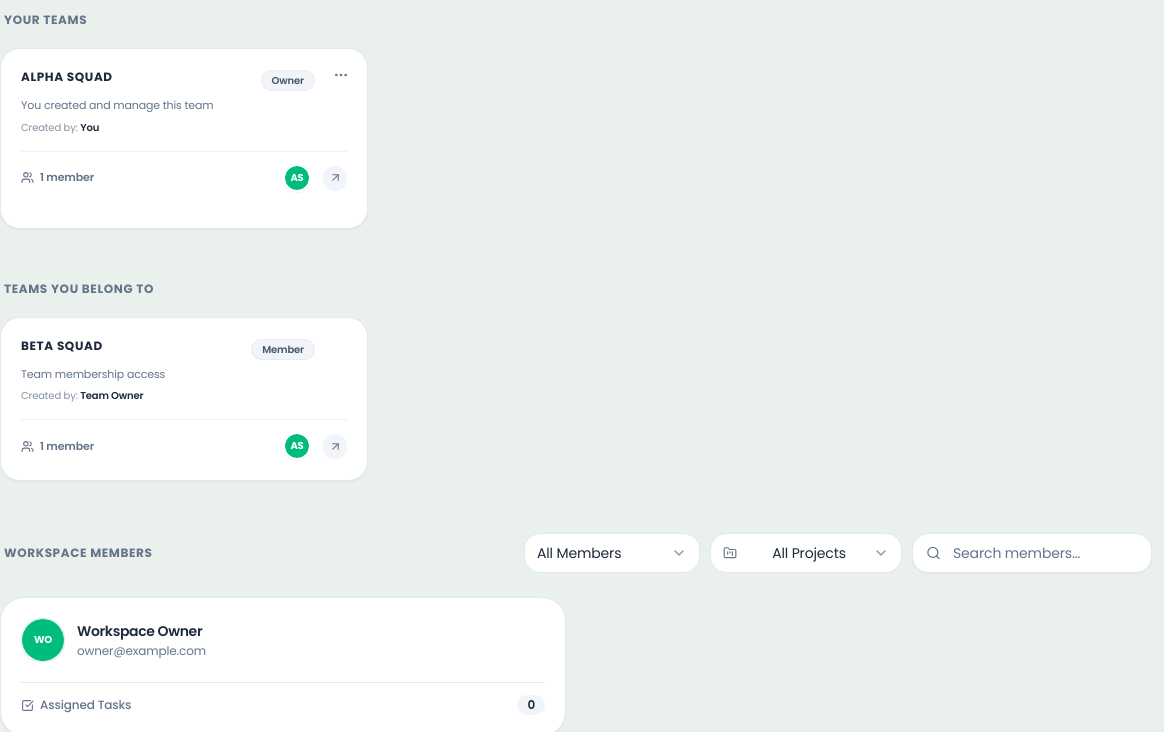
Test: TeamHub › filters workspace members correctly via search query input
Type "NonExistent" into the field with placeholder "Search members..." at {"x": 1032, "y": 553}, box x1=912 y1=533 x2=1152 y2=573
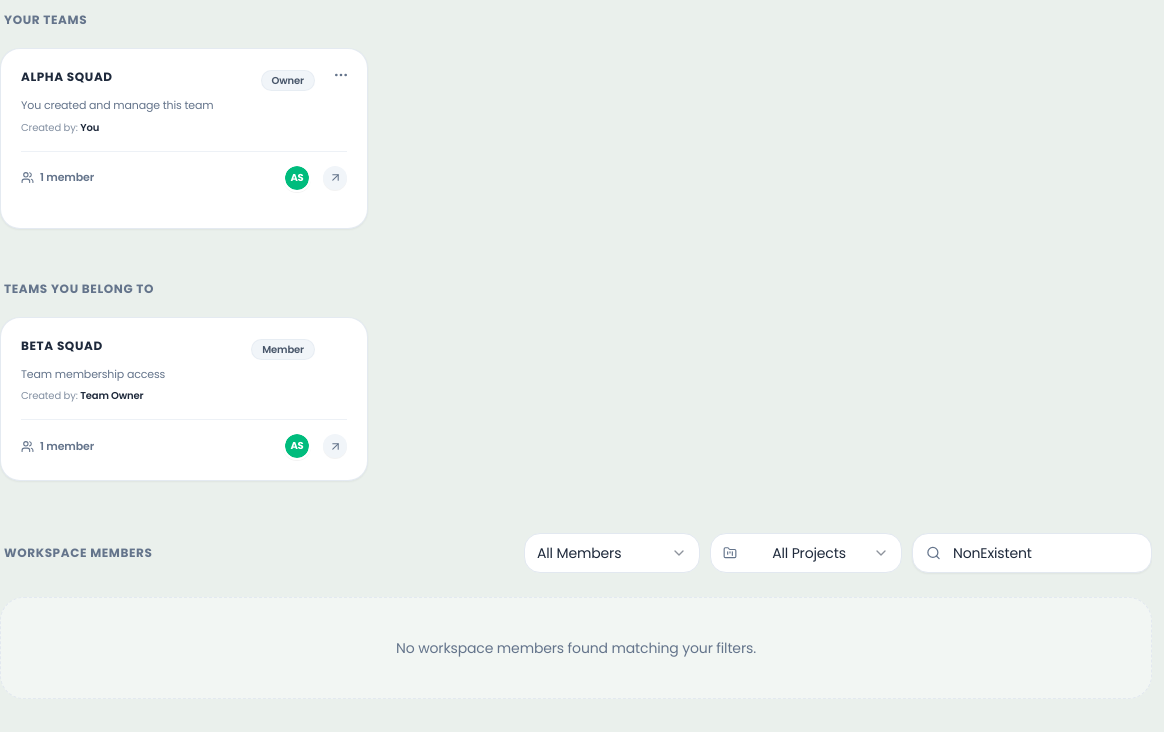
Expected: the text "No workspace members found matching your filters." is shown, x1=396 y1=638 x2=756 y2=658
